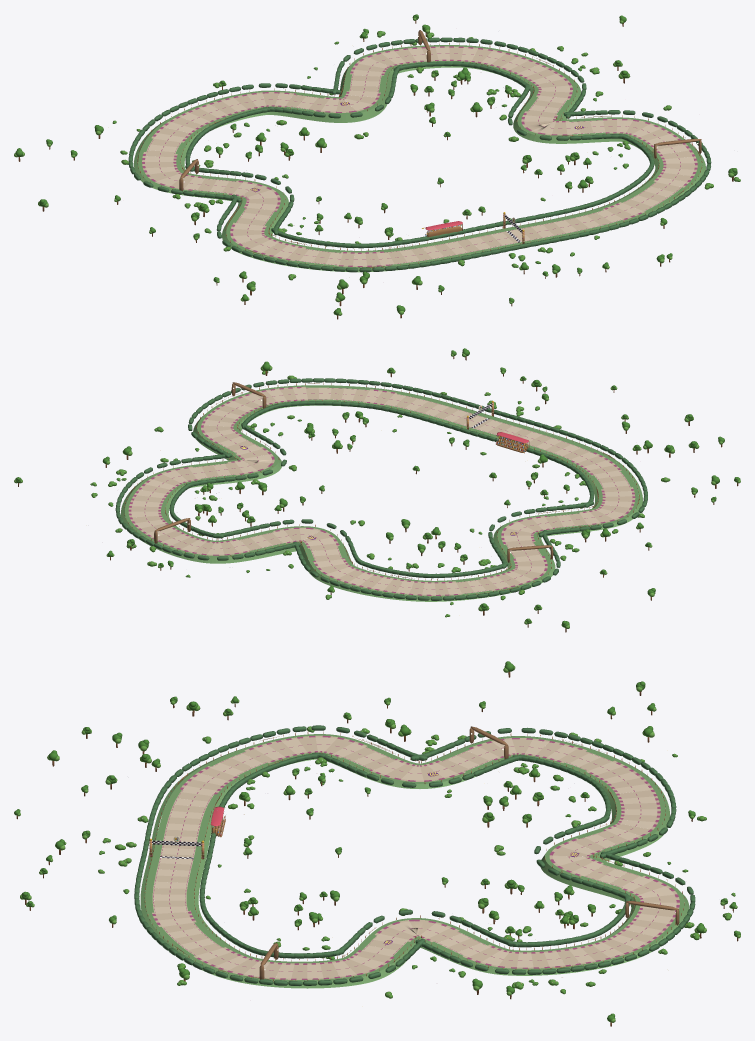
Rendered from carreras_jardines.glb.
3 views of the same model, one above another, from view 1: azimuth 30°, elevation 25°; view 2: azimuth 150°, elevation 25°; view 3: azimuth 270°, elevation 25° (orthographic). The views are drawn at different scales.
Parts seen in each view (by area): view 1: jardines Tela | hojas seto 0 -1, jardines Tela | hojas seto -1 0, jardines Tela | hojas seto -1 -1, jardines Tela | camino claro jardines 0 -1, jardines Tela | camino claro jardines 0 0, jardines Tela | camino jardines 0 0, jardines Tela | camino claro jardines -1 0, jardines Tela | hojas seto 0 0, jardines Tela | camino jardines 0 -1, jardines Tela | camino jardines -1 0, jardines Tela | camino jardines -1 -1, jardines Tela | camino claro jardines -1 -1 (+20 smaller); view 2: jardines Tela | hojas seto 0 -1, jardines Tela | hojas seto 0 0, jardines Tela | hojas seto -1 0, jardines Tela | camino claro jardines 0 0, jardines Tela | camino jardines 0 0, jardines Tela | camino claro jardines 0 -1, jardines Tela | camino claro jardines -1 0, jardines Tela | camino jardines -1 0, jardines Tela | camino jardines 0 -1, jardines Tela | camino jardines -1 -1, jardines Tela | hojas seto -1 -1, jardines Tela | camino claro jardines -1 -1 (+19 smaller); view 3: jardines Tela | hojas seto 0 0, jardines Tela | camino jardines 0 0, jardines Tela | camino claro jardines 0 -1, jardines Tela | camino claro jardines 0 0, jardines Tela | camino jardines 0 -1, jardines Tela | hojas seto -1 0, jardines Tela | camino claro jardines -1 0, jardines Tela | camino jardines -1 0, jardines Tela | hojas seto 0 -1, jardines Tela | camino jardines -1 -1, jardines Tela | camino claro jardines -1 -1, jardines Tela | hojas seto -1 -1 (+20 smaller).
Part boxes in pixels (<box>): jardines Tela | hojas seto 0 -1: <box>495,110,711,246</box>; jardines Tela | hojas seto -1 0: <box>128,83,362,207</box>; jardines Tela | hojas seto -1 -1: <box>216,194,530,272</box>; jardines Tela | camino claro jardines 0 -1: <box>509,120,694,241</box>; jardines Tela | camino claro jardines 0 0: <box>344,47,569,132</box>; jardines Tela | camino jardines 0 0: <box>341,47,569,130</box>; jardines Tela | camino claro jardines -1 0: <box>145,93,338,199</box>; jardines Tela | hojas seto 0 0: <box>321,37,595,125</box>; jardines Tela | camino jardines 0 -1: <box>521,120,694,239</box>; jardines Tela | camino jardines -1 0: <box>145,93,341,197</box>; jardines Tela | camino jardines -1 -1: <box>233,198,519,265</box>; jardines Tela | camino claro jardines -1 -1: <box>233,203,513,265</box>; jardines Tela | hojas seto 0 -1: <box>188,378,491,466</box>; jardines Tela | hojas seto 0 0: <box>115,445,313,560</box>; jardines Tela | hojas seto -1 0: <box>296,516,560,600</box>; jardines Tela | camino claro jardines 0 0: <box>131,458,319,554</box>; jardines Tela | camino jardines 0 0: <box>131,460,328,554</box>; jardines Tela | camino claro jardines 0 -1: <box>204,387,486,459</box>; jardines Tela | camino claro jardines -1 0: <box>307,522,544,594</box>; jardines Tela | camino jardines -1 0: <box>306,528,544,594</box>; jardines Tela | camino jardines 0 -1: <box>203,387,478,458</box>; jardines Tela | camino jardines -1 -1: <box>473,419,632,531</box>; jardines Tela | hojas seto -1 -1: <box>469,409,647,533</box>; jardines Tela | camino claro jardines -1 -1: <box>478,420,632,529</box>; jardines Tela | hojas seto 0 0: <box>408,848,695,974</box>; jardines Tela | camino jardines 0 0: <box>409,849,676,967</box>; jardines Tela | camino claro jardines 0 -1: <box>152,858,416,978</box>; jardines Tela | camino claro jardines 0 0: <box>397,855,676,967</box>; jardines Tela | camino jardines 0 -1: <box>152,863,413,978</box>; jardines Tela | hojas seto -1 0: <box>402,727,676,854</box>; jardines Tela | camino claro jardines -1 0: <box>402,739,657,854</box>; jardines Tela | camino jardines -1 0: <box>420,739,657,855</box>; jardines Tela | hojas seto 0 -1: <box>134,851,412,985</box>; jardines Tela | camino jardines -1 -1: <box>160,737,413,857</box>; jardines Tela | camino claro jardines -1 -1: <box>160,737,404,855</box>; jardines Tela | hojas seto -1 -1: <box>141,725,404,857</box>.
Size of what is drawn, in the model's own units: 346 by 10.77 by 300.
